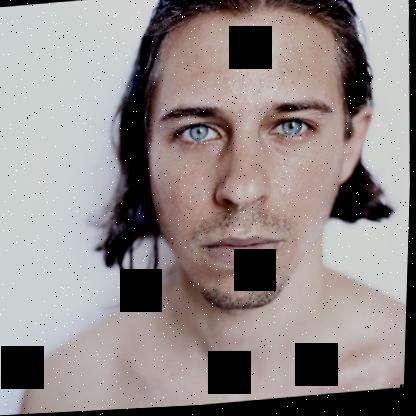Male: (139, 0, 382, 317)
